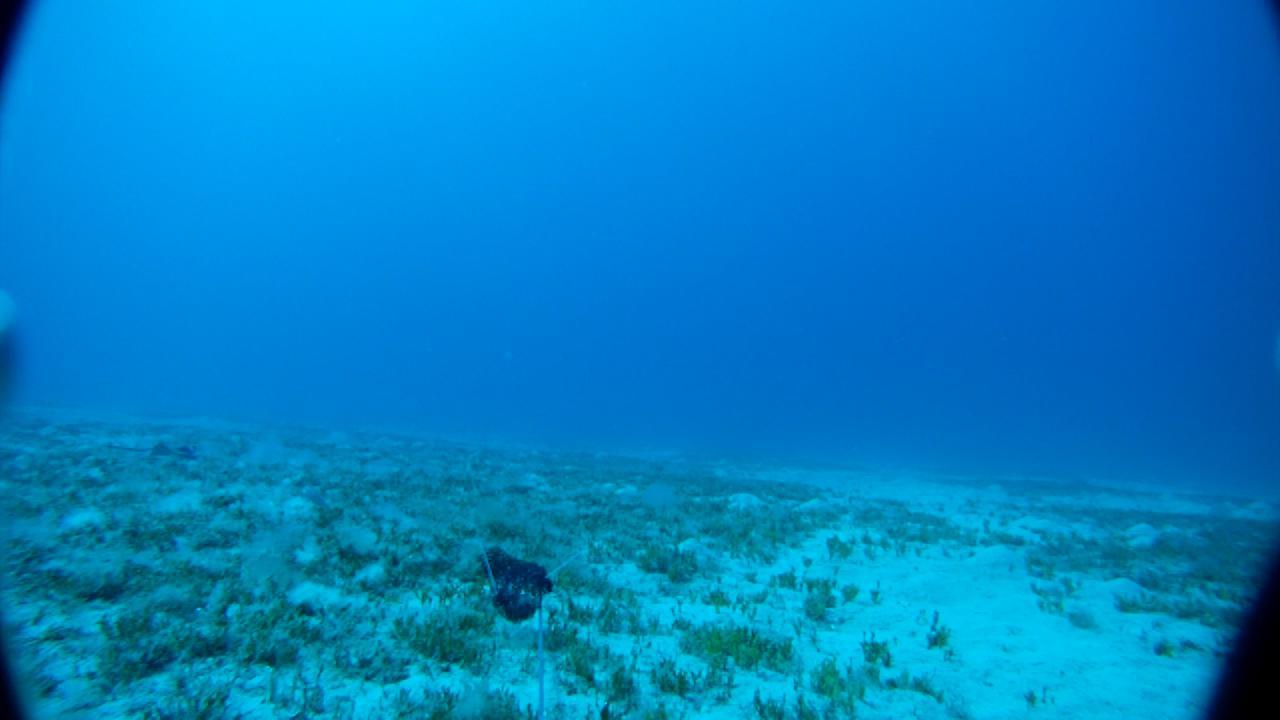dasyatis: (104, 439, 200, 460)
